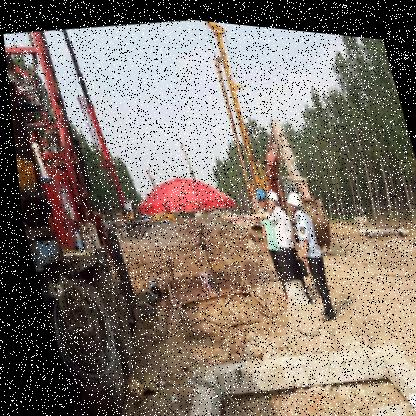helmet: (275, 174, 334, 318), (278, 182, 300, 207)
